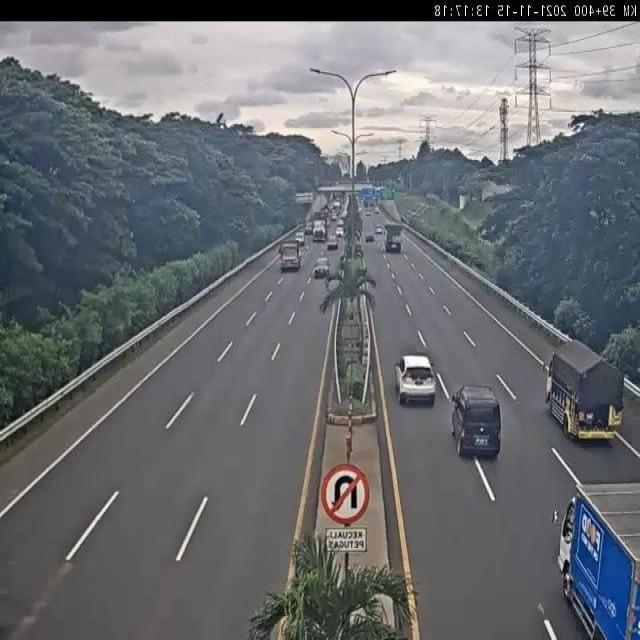Car: (392, 353, 438, 405), (314, 258, 332, 279), (326, 234, 338, 250), (334, 228, 344, 237)
Truck: (552, 482, 640, 638), (544, 339, 622, 446), (280, 242, 301, 273), (384, 222, 402, 254), (312, 216, 328, 242)
Van: (450, 384, 504, 462)
